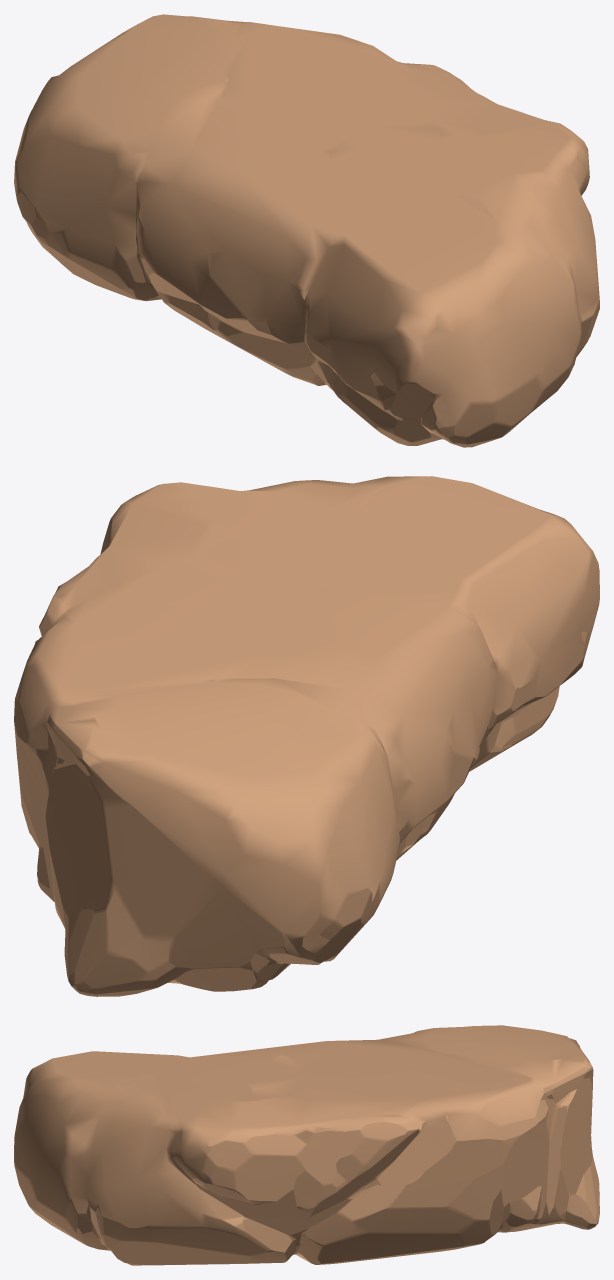
3 views of the same model, one above another, from view 1: azimuth 30°, elevation 25°; view 2: azimuth 150°, elevation 25°; view 3: azimuth 270°, elevation 25° (orthographic). The views are drawn at different scales.
Parts seen in each view (by area): view 1: Mesh_55_LOD0; view 2: Mesh_55_LOD0; view 3: Mesh_55_LOD0.
Boxes of the visible parts, x1,y1,x2,y2 form: Mesh_55_LOD0: (14,14,599,447); Mesh_55_LOD0: (14,476,599,996); Mesh_55_LOD0: (14,1025,599,1265).
Size of what is drawn, in the model's own units: 1897 by 1055 by 3095.
